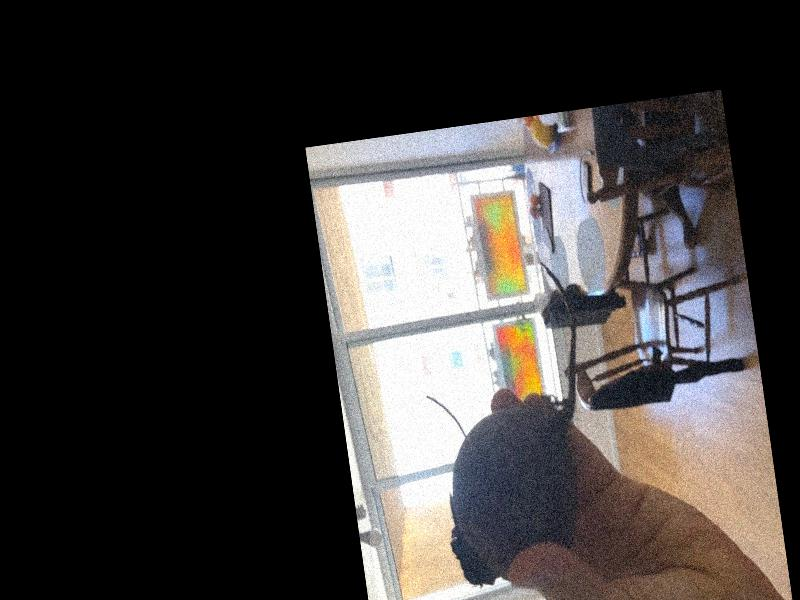Beet: (412, 258, 608, 589)
